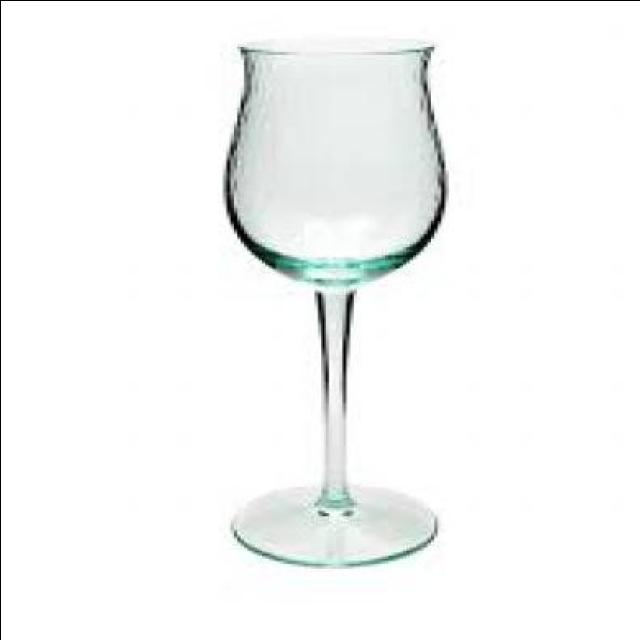kaca: (219, 38, 442, 563)
